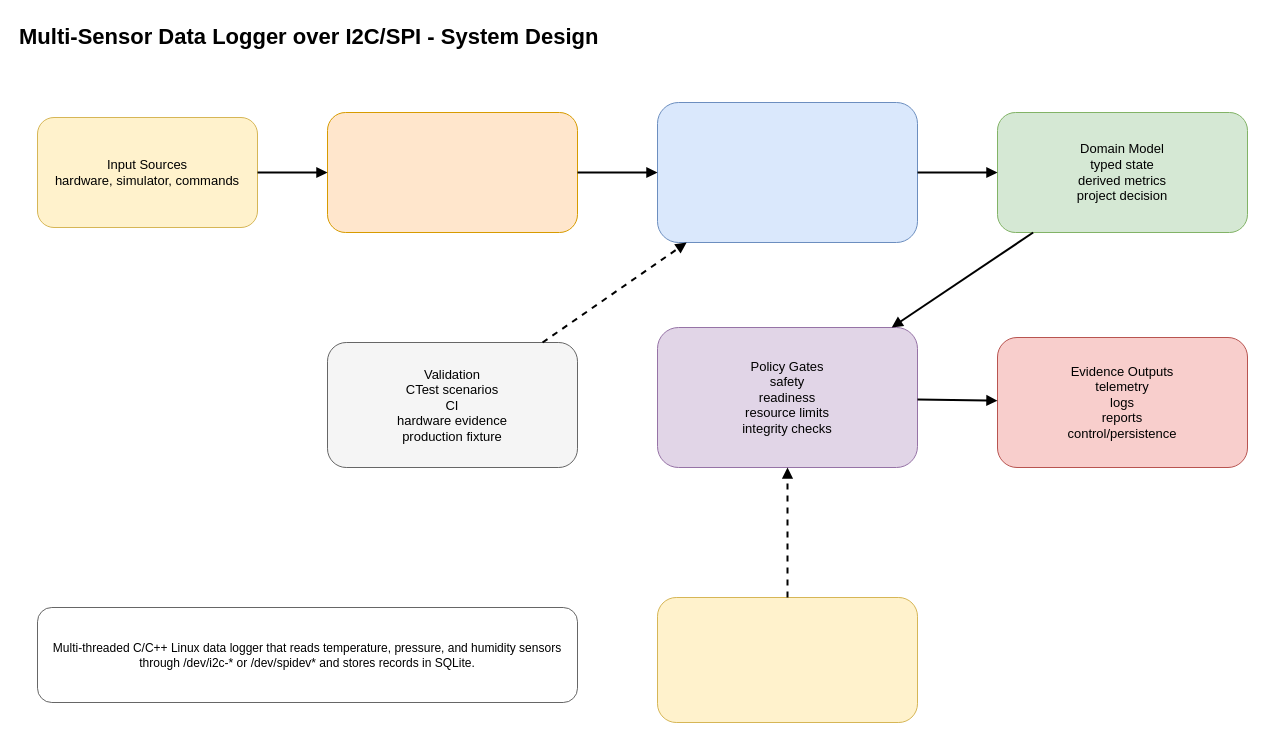
Image size: 1265x740. Some labels were removed from this diagram. The shapes that lost their labels are listed below. From the top down, each one's box as (x1, y1, x2, y2) in pixels, then its label:
(326, 112, 578, 232): Adapter Layer bus / OS / driver / transport boundaries
(656, 102, 918, 242): Runtime Orchestrator C++17 facade dependency injection deterministic cycle
(656, 596, 918, 722): Roadmap design package host runtime target adapters hardware evidence
